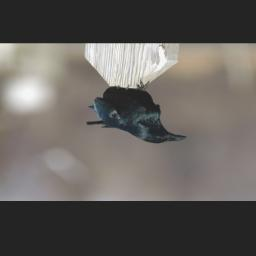Crow: (86, 81, 187, 143)
